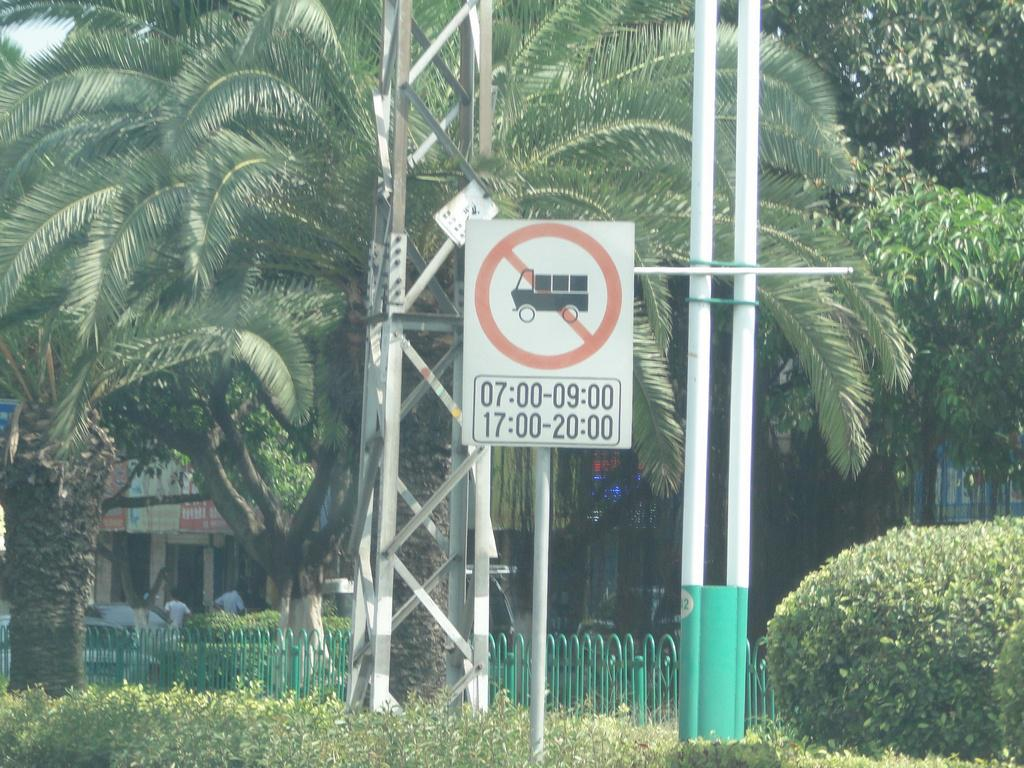Prohibitory Signs: (469, 218, 627, 374)
